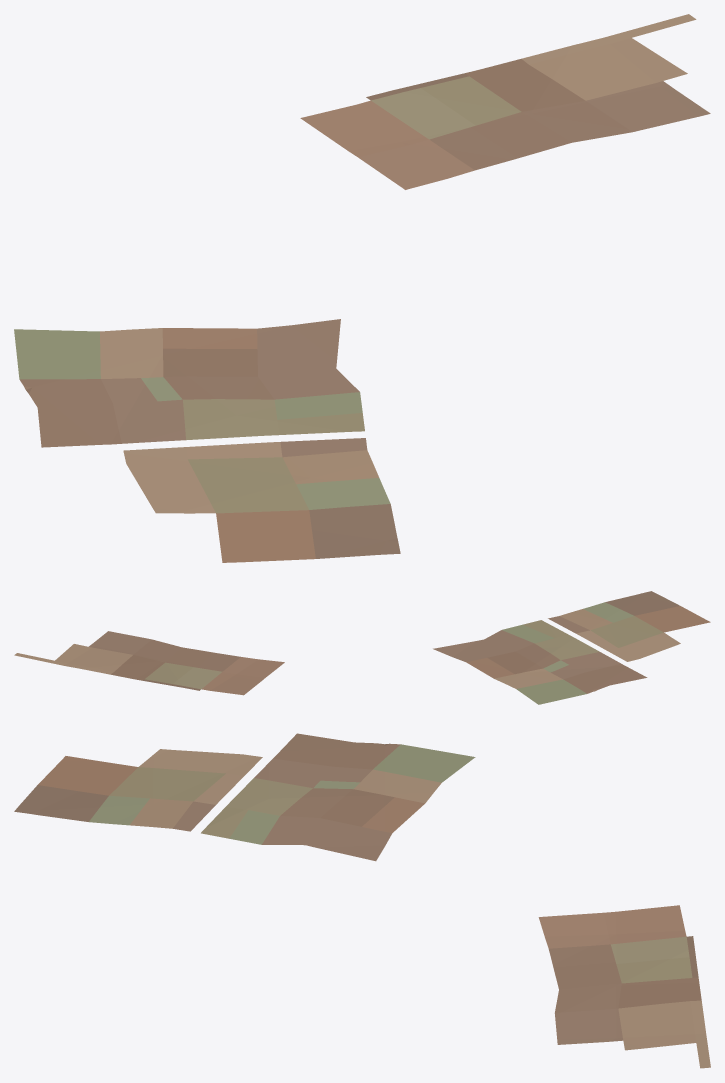
The model's file is farm_12_5_soil.glb.
3 renders of one model, top to bottom at view 1: azimuth 30°, elevation 25°; view 2: azimuth 150°, elevation 25°; view 3: azimuth 270°, elevation 25°, orthographic. The views are drawn at different scales.
Visible parts, largest first — view 1: geometry_0; view 2: geometry_0; view 3: geometry_0.
Part boxes in pixels (x1,y1,x2,y2): geometry_0: [14, 14, 710, 562]; geometry_0: [14, 591, 710, 704]; geometry_0: [14, 733, 710, 1068].
Size of the model in its own units: 565 by 23.6 by 482.
